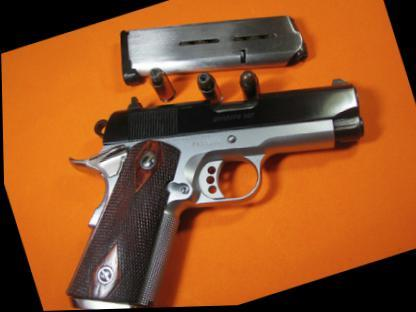pistol: (9, 30, 400, 311)
